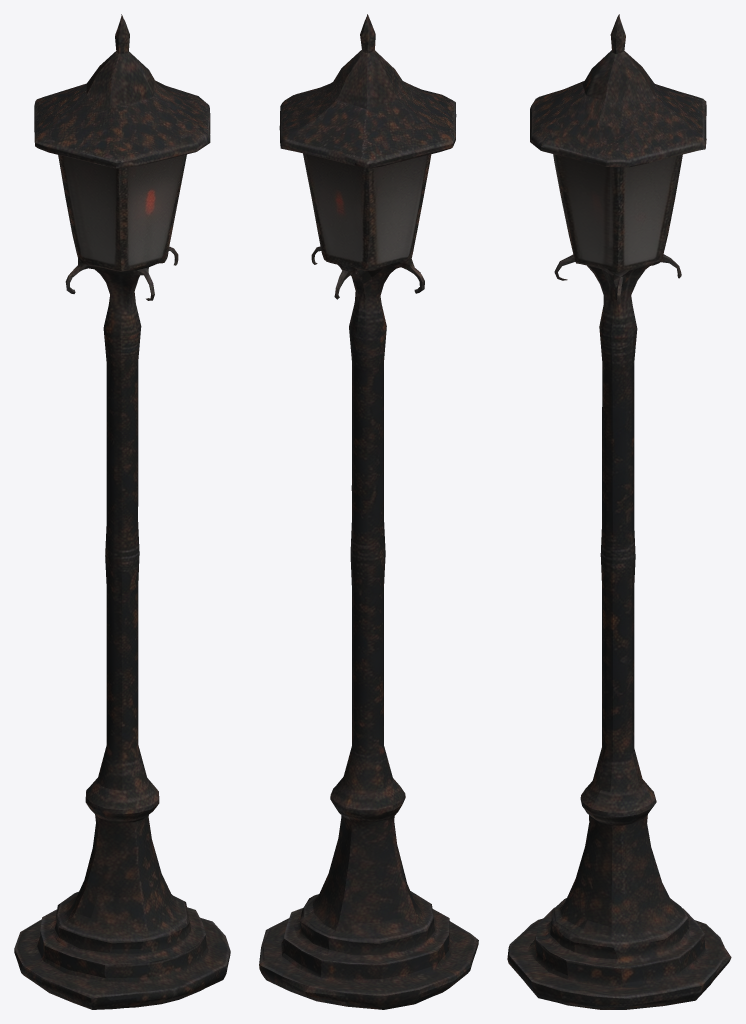
The model's file is lantern-post-v2.glb.
3 views of the same model, side by side, from view 1: azimuth 30°, elevation 25°; view 2: azimuth 150°, elevation 25°; view 3: azimuth 270°, elevation 25° (orthographic).
Size of the model in its own units: 0.3953 by 1.89 by 0.4017.
Materials: 1 (1 with a texture image).
